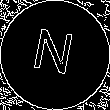N_S: (30, 26, 80, 84)
